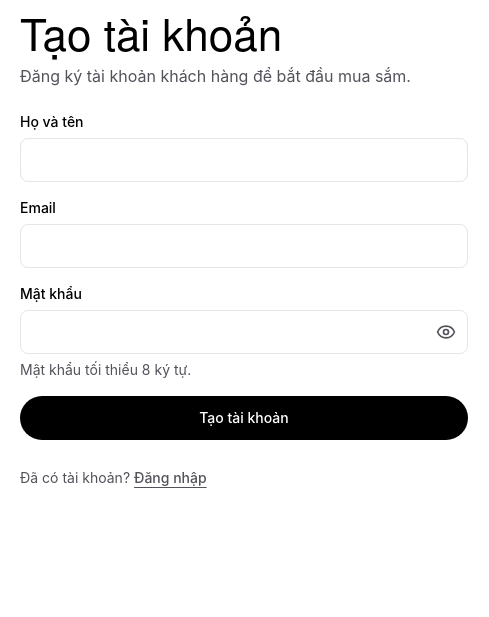
it: RegisterPage › shows a duplicate-email notice with a link to login on 409
In the field labelled "Họ và tên": (244, 160) [20, 138, 468, 182], type "Người mua"
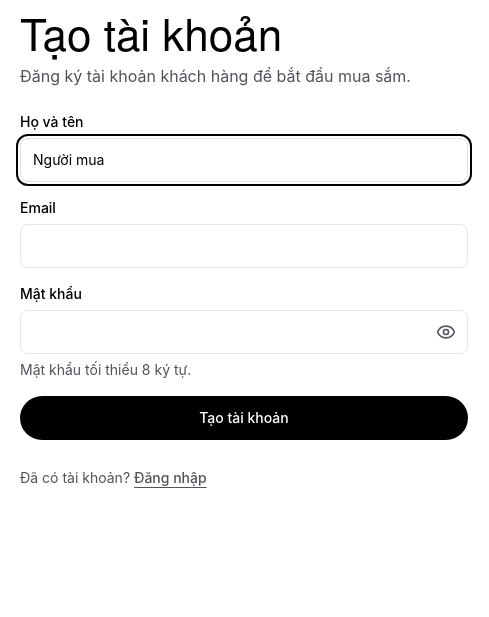
In the field labelled "Email": (244, 246) [20, 224, 468, 268], type "buyer@example.com"
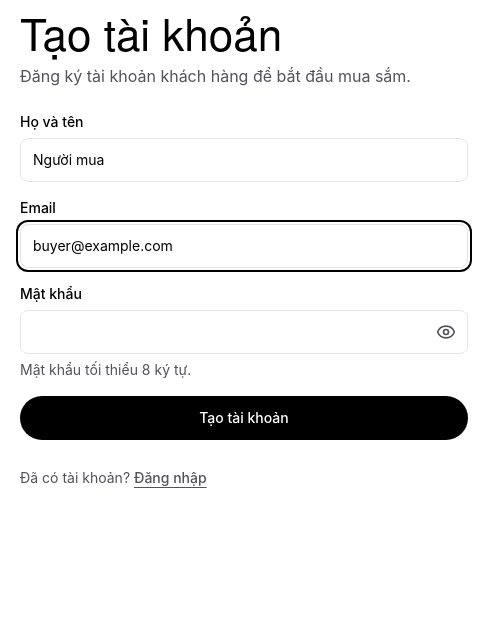
In the password field labelled "Mật khẩu": (244, 332) [20, 310, 468, 354], type "secret123"
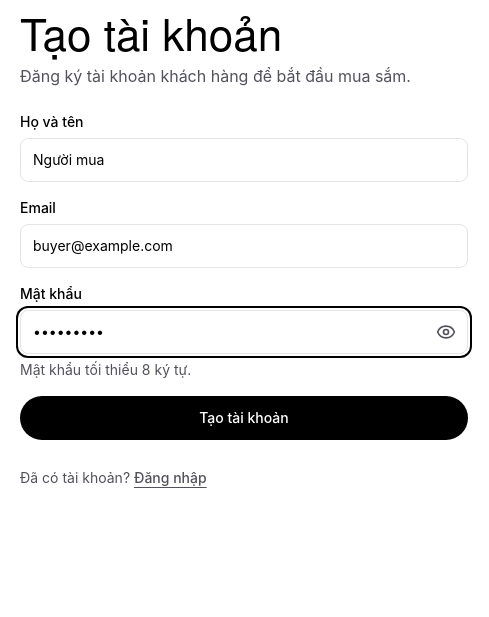
Click the button "Tạo tài khoản": (244, 418) [20, 396, 468, 440]
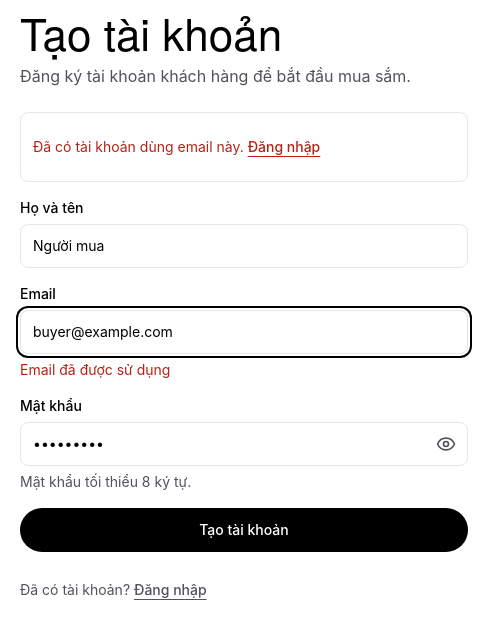
Expected: the text "Email đã được sử dụng" is shown, [20, 361, 170, 378]
Expected: the text "Đã có tài khoản dùng email này." is shown, [33, 138, 244, 155]
